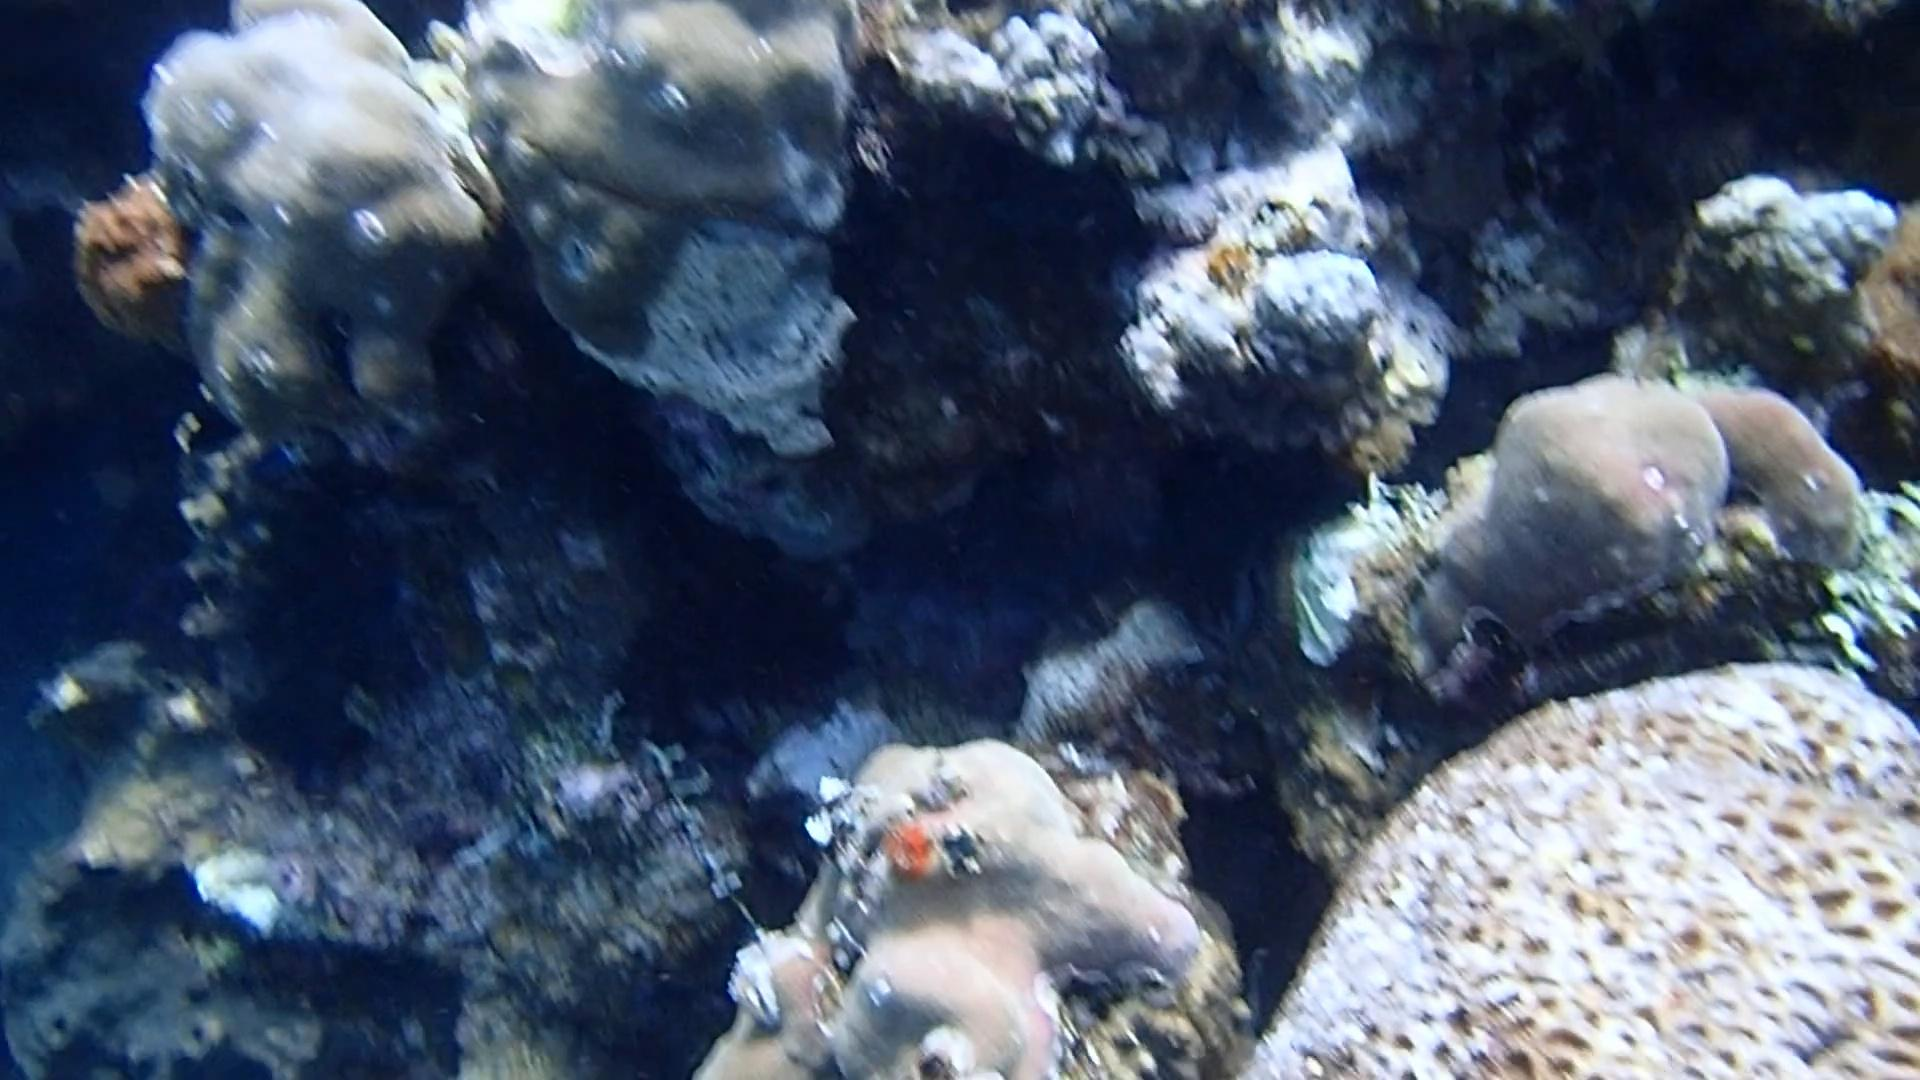Dark Fish: (170, 402, 244, 473)
